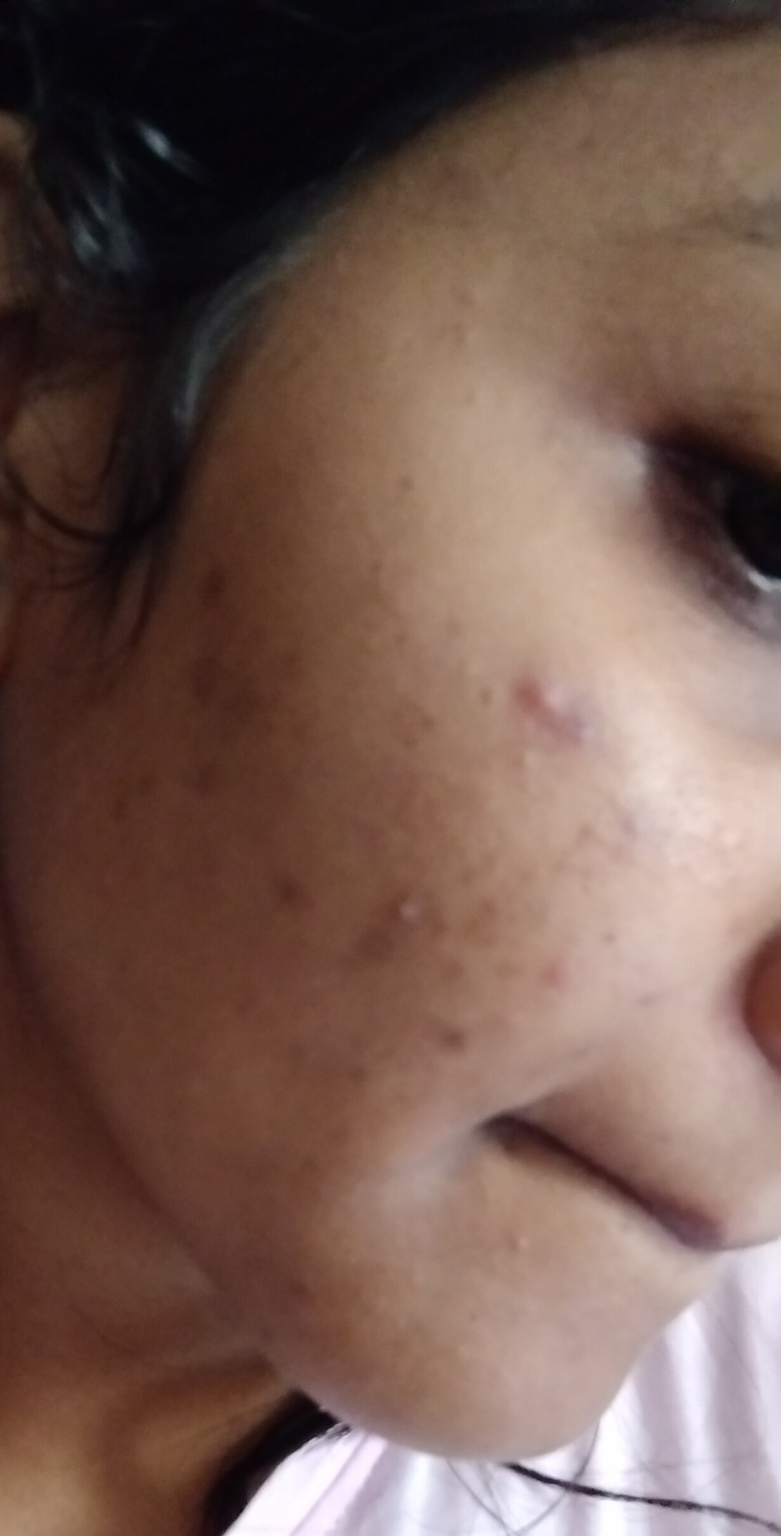papule: (503, 631, 607, 773), (534, 927, 597, 1003)
pustule: (372, 879, 465, 958)
